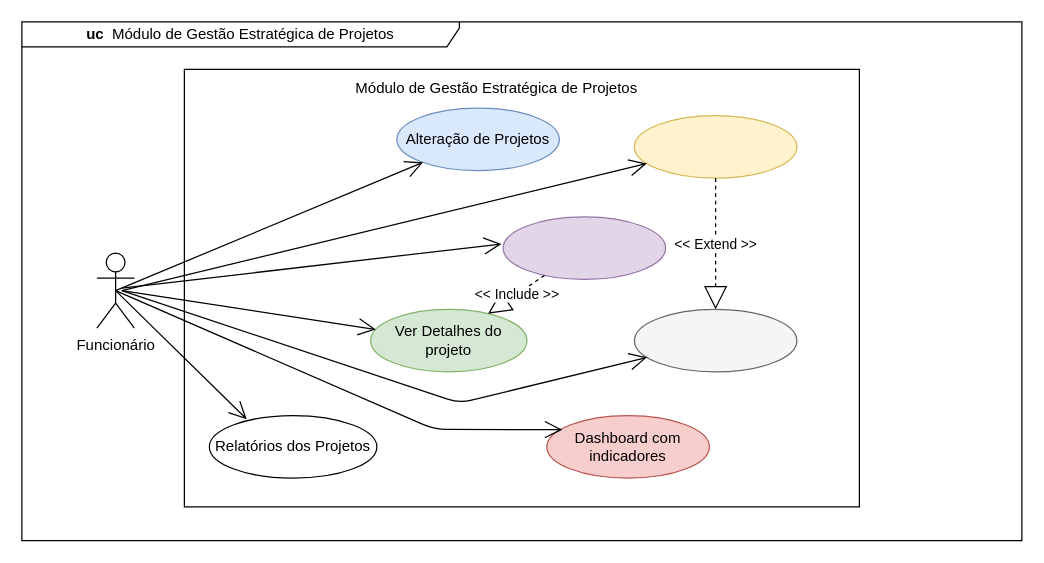
This 1044x563 diagram has some shape labels left out. The centre of each missing label's shape, as x and y in pixels:
"Cadastro de Projetos" belongs at [715,146].
"Consultar projetos" belongs at [584,247].
"Gerenciar Cronograma do Projeto" belongs at [715,340].
